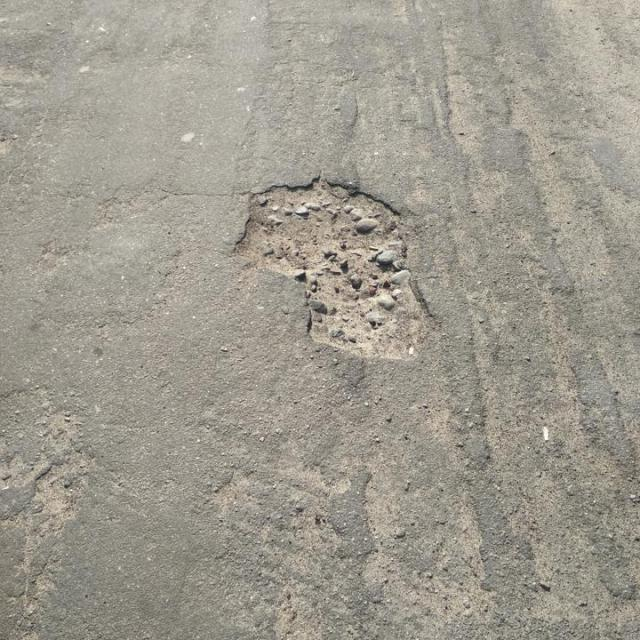Pothole: (227, 168, 458, 374)
